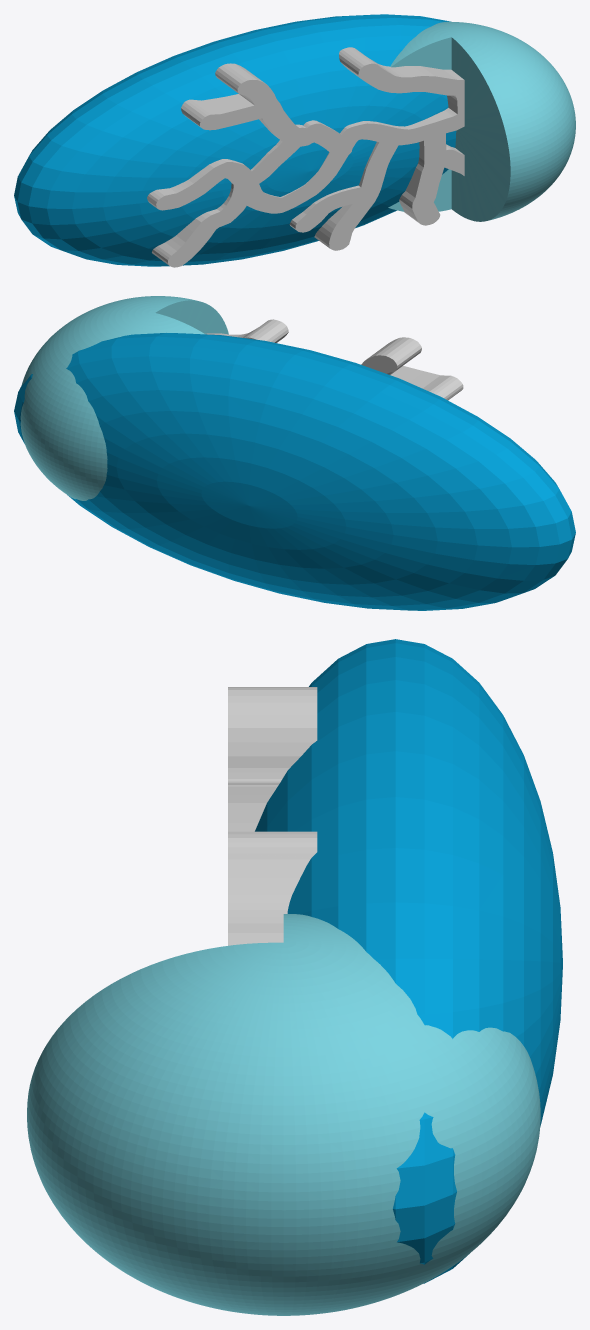
File: Mito.obj
The picture shows the model from 3 angles, top to bottom: view 1: azimuth 30°, elevation 25°; view 2: azimuth 150°, elevation 25°; view 3: azimuth 270°, elevation 25°; orthographic projection. The views are drawn at different scales.
Visible parts, largest first — view 1: group_0_40919, group_0_8768998, group_0_7720667; view 2: group_0_40919, group_0_7720667, group_0_8768998; view 3: group_0_7720667, group_0_40919, group_0_8768998.
Part boxes in pixels (x1,y1,x2,y2): group_0_40919: (14, 14, 456, 266); group_0_8768998: (147, 47, 464, 267); group_0_7720667: (388, 21, 575, 221); group_0_40919: (14, 333, 575, 610); group_0_7720667: (20, 296, 228, 500); group_0_8768998: (205, 319, 463, 400); group_0_7720667: (27, 914, 540, 1315); group_0_40919: (255, 639, 562, 1283); group_0_8768998: (228, 687, 317, 945).
Size of the model in its own units: 53 by 21 by 24.
